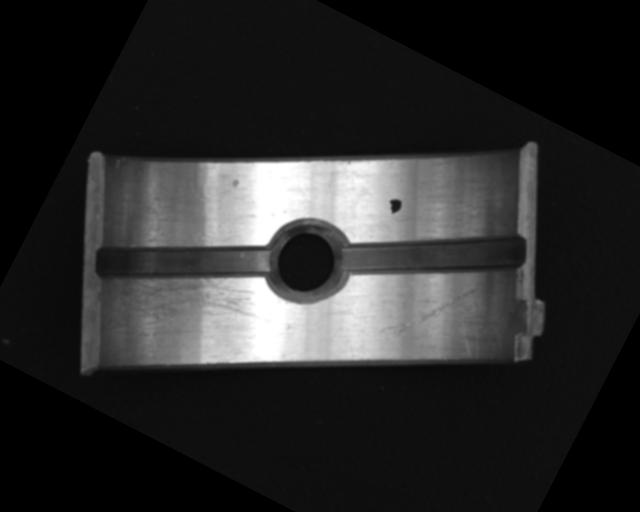blot: (383, 194, 404, 216)
bruise: (229, 177, 240, 189)
gap: (337, 167, 534, 342), (89, 180, 276, 342)
hole: (254, 209, 359, 316)
nick: (378, 255, 481, 364)
scratch: (92, 229, 277, 390)
